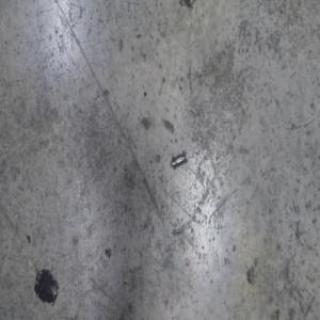Bolttrack_idkeyframe: (170, 150, 187, 170)
